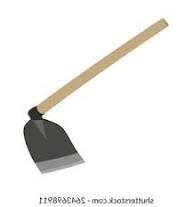HOUE: (19, 14, 169, 191)
